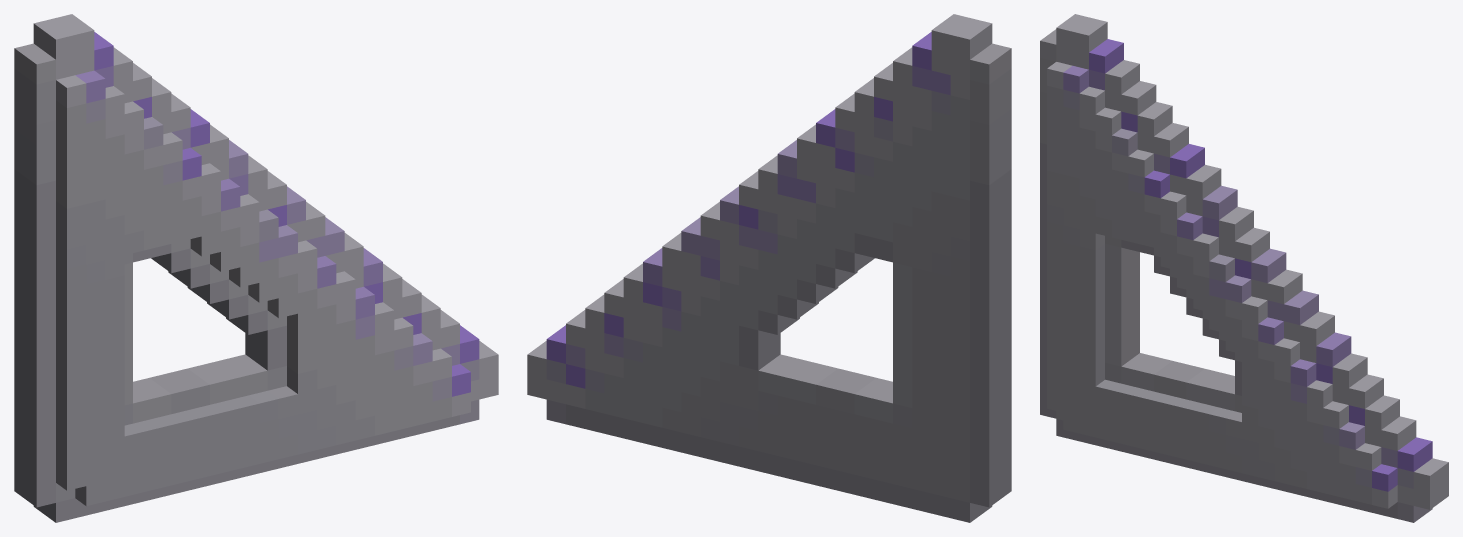
The model's file is triangle-ruler.glb.
3 renders of one model, left to right at view 1: azimuth 30°, elevation 25°; view 2: azimuth 150°, elevation 25°; view 3: azimuth 330°, elevation 25°, orthographic. The views are drawn at different scales.
Parts seen in each view (by area): view 1: prop; view 2: prop; view 3: prop.
Part boxes in pixels (bbox=[...]): prop: bbox=[14, 14, 498, 522]; prop: bbox=[527, 14, 1011, 522]; prop: bbox=[1040, 14, 1448, 522].
Bounding box in the file's own units: 16 × 16 × 2.
